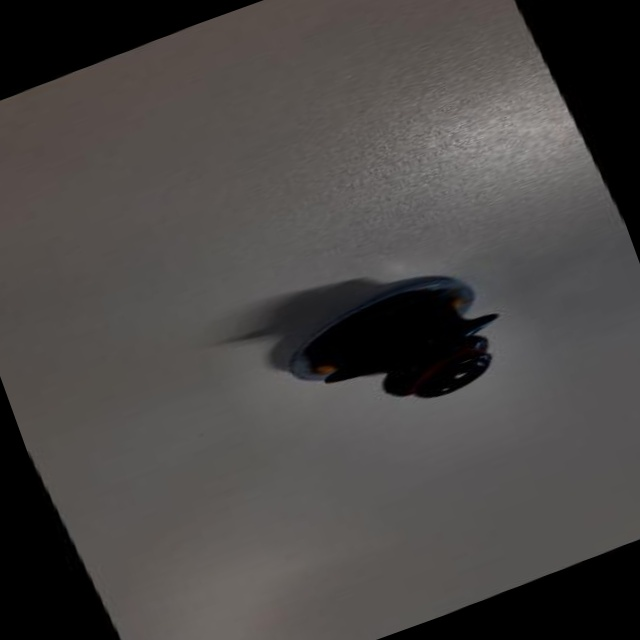Penguin: (265, 249, 528, 452)
